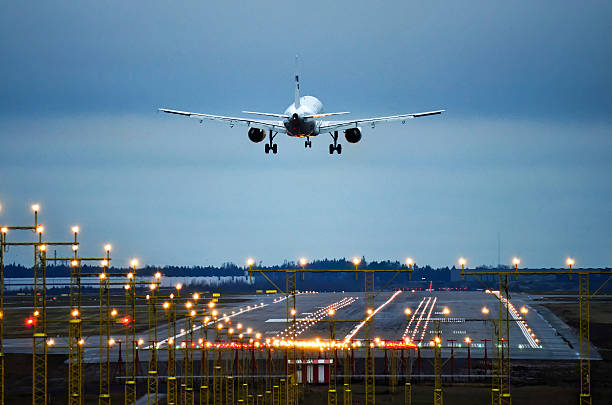Airplane: (152, 53, 448, 155)
Traffic Signal: (560, 252, 588, 267), (295, 252, 322, 267), (24, 308, 40, 331), (241, 254, 269, 267), (508, 253, 530, 268), (456, 256, 480, 268), (24, 314, 37, 328), (440, 307, 456, 317), (37, 243, 46, 259), (70, 259, 79, 272), (70, 307, 79, 318)
